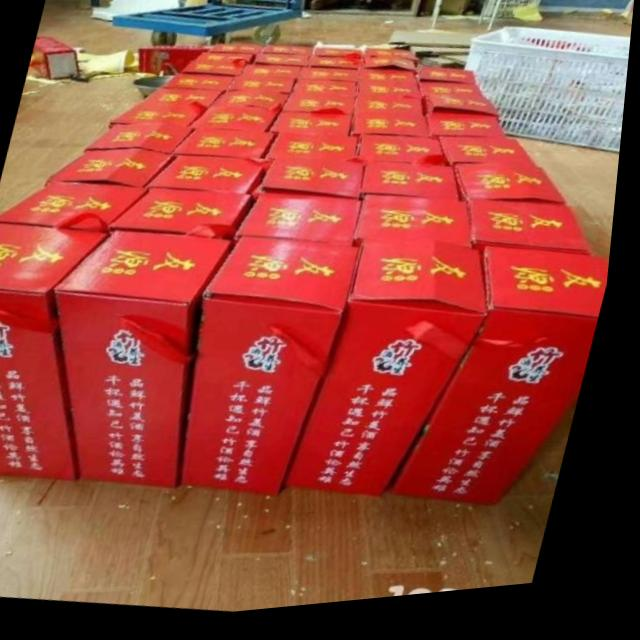box: (399, 256, 615, 518), (296, 250, 497, 505), (60, 233, 242, 492), (189, 242, 367, 500), (0, 222, 113, 485), (0, 182, 155, 237), (115, 193, 254, 246), (471, 208, 600, 265), (357, 202, 480, 257), (241, 202, 366, 251), (150, 158, 273, 204), (56, 150, 179, 192), (457, 173, 571, 216), (257, 166, 367, 209), (368, 168, 466, 208), (91, 124, 199, 159), (173, 133, 283, 166), (443, 144, 543, 178), (363, 142, 459, 173), (271, 137, 362, 169), (116, 103, 209, 129), (356, 89, 430, 121), (299, 54, 365, 89), (32, 35, 83, 80), (273, 115, 356, 142), (429, 121, 515, 147), (359, 118, 437, 146), (195, 112, 284, 136), (364, 56, 422, 91), (216, 95, 293, 117), (198, 47, 267, 70), (164, 76, 238, 97), (426, 106, 499, 127), (148, 92, 228, 111), (285, 98, 360, 118), (229, 79, 300, 100), (255, 52, 320, 74), (420, 72, 480, 93), (296, 84, 364, 102), (183, 63, 250, 81), (240, 68, 304, 86), (421, 90, 489, 106)
